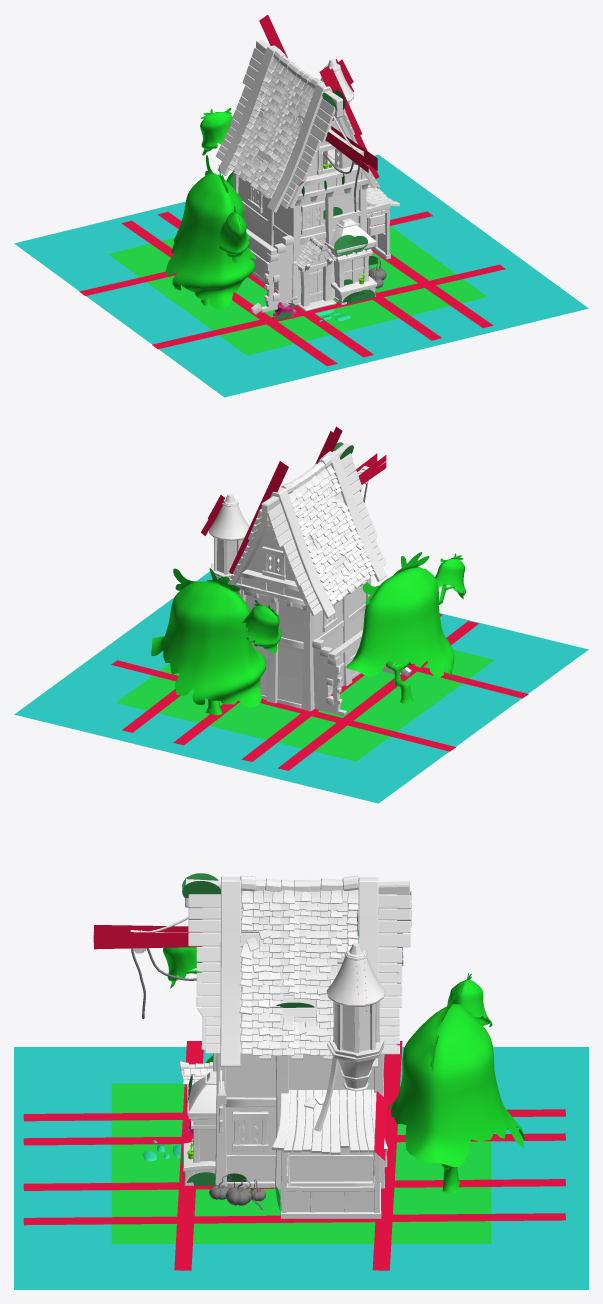
Rendered from Medieval sketch.fbx.
The picture shows the model from 3 angles, top to bottom: view 1: azimuth 30°, elevation 25°; view 2: azimuth 150°, elevation 25°; view 3: azimuth 270°, elevation 25°; orthographic projection. The views are drawn at different scales.
Visible parts, largest first — view 1: Floor paint dirt, House, Tree, Grass 11; view 2: Floor paint dirt, House, Tree; view 3: Floor paint dirt, House, Tree, Grass 11, pump.
Part boxes in pixels (x1=…): Floor paint dirt: x1=14, y1=15, x2=588, y2=397; House: x1=216, y1=40, x2=399, y2=314; Tree: x1=165, y1=108, x2=256, y2=308; Grass 11: x1=275, y1=90, x2=377, y2=320; Floor paint dirt: x1=14, y1=426, x2=588, y2=803; House: x1=208, y1=443, x2=411, y2=715; Tree: x1=151, y1=552, x2=465, y2=715; Floor paint dirt: x1=14, y1=925, x2=588, y2=1289; House: x1=130, y1=875, x2=411, y2=1218; Tree: x1=163, y1=947, x2=524, y2=1192; Grass 11: x1=181, y1=873, x2=358, y2=1210; pump: x1=209, y1=1175, x2=265, y2=1210.
Bounding box in the file's own units: 386 × 249 × 383.
